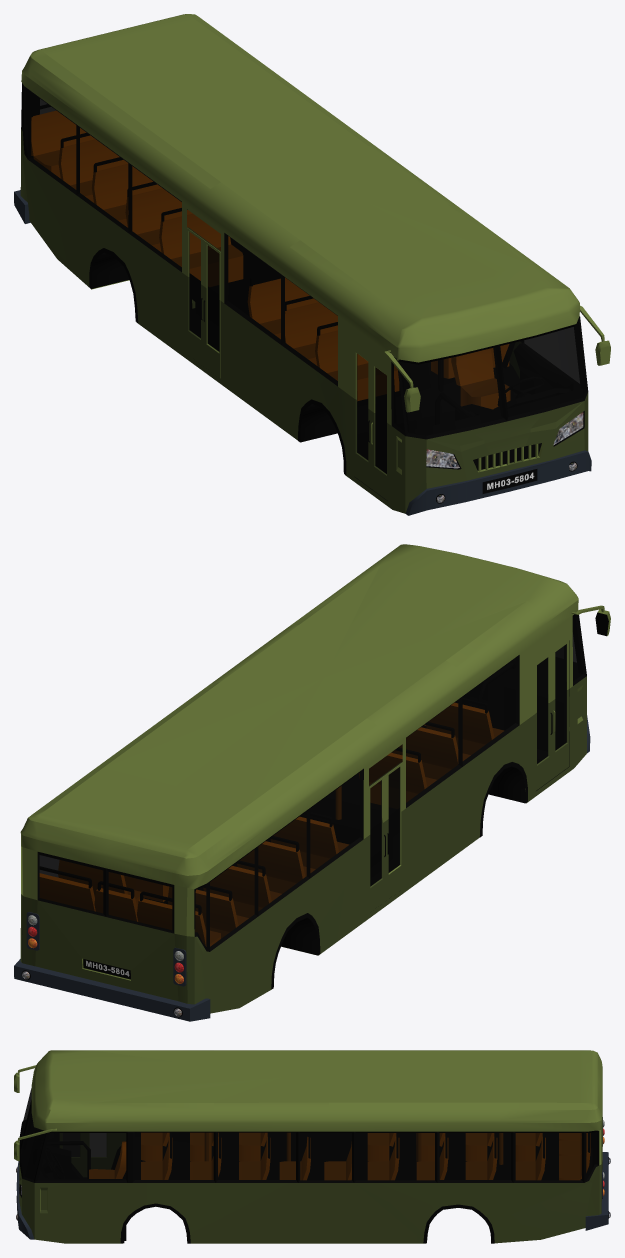
File: Bus_1.fbx
3 views of the same model, one above another, from view 1: azimuth 30°, elevation 25°; view 2: azimuth 150°, elevation 25°; view 3: azimuth 270°, elevation 25° (orthographic). The views are drawn at different scales.
Parts seen in each view (by area): view 1: Bus_1, Windows, Bus_1_DoorGlass (×2), Bus_1_door_R, Bus_1_Door_L; view 2: Bus_1, Windows, Bus_1_DoorGlass (×2), Bus_1_Door_L, Bus_1_door_R; view 3: Bus_1, Windows, Bus_1_DoorGlass (×2), Bus_1_door_R, Bus_1_Door_L.
Boxes of the visible parts, x1,y1,x2,y2 form: Bus_1: (14,14,610,515); Windows: (23,85,586,435); Bus_1_DoorGlass (×2): (357,353,386,473); Bus_1_door_R: (354,349,371,488); Bus_1_Door_L: (371,362,387,500); Bus_1: (14,544,610,1021); Windows: (39,615,583,946); Bus_1_DoorGlass (×2): (537,644,566,763); Bus_1_Door_L: (552,640,569,778); Bus_1_door_R: (535,653,552,790); Bus_1: (14,1050,610,1243); Windows: (21,1088,596,1180); Bus_1_DoorGlass (×2): (63,1133,105,1156); Bus_1_door_R: (85,1133,108,1175); Bus_1_Door_L: (60,1133,84,1175).
Size of the model in its own units: 239 by 206 by 828.
